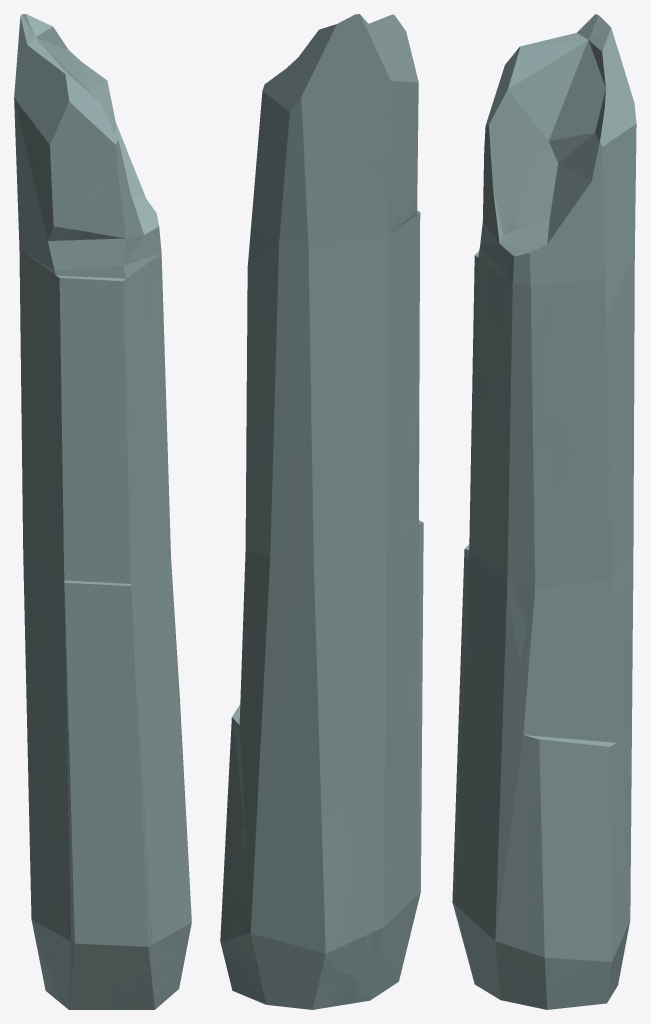
File: BrokenCrystal.fbx
The picture shows the model from 3 angles, left to right: view 1: azimuth 30°, elevation 25°; view 2: azimuth 150°, elevation 25°; view 3: azimuth 270°, elevation 25°; orthographic projection. The views are drawn at different scales.
Parts seen in each view (by area): view 1: Cristal_Long_Broken, Cristal_Long_Broken_cell.029, Cristal_Long_Broken_cell.030, Cristal_Long_Broken_cell.019, Cristal_Long_Broken_cell.005, Cristal_Long_Broken_cell.023, Cristal_Long_Broken_cell.031, Cristal_Long_Broken_cell.025, Cristal_Long_Broken_cell.046, Cristal_Long_Broken_cell.039, Cristal_Long_Broken_cell.053, Cristal_Long_Broken_cell.011 (+11 smaller); view 2: Cristal_Long_Broken, Cristal_Long_Broken_cell.002, Cristal_Long_Broken_cell.007, Cristal_Long_Broken_cell.032, Cristal_Long_Broken_cell.021, Cristal_Long_Broken_cell.005, Cristal_Long_Broken_cell.024, Cristal_Long_Broken_cell.033, Cristal_Long_Broken_cell.045, Cristal_Long_Broken_cell, Cristal_Long_Broken_cell.036, Cristal_Long_Broken_cell.017 (+16 smaller); view 3: Cristal_Long_Broken, Cristal_Long_Broken_cell.036, Cristal_Long_Broken_cell.028, Cristal_Long_Broken_cell.018, Cristal_Long_Broken_cell.017, Cristal_Long_Broken_cell.046, Cristal_Long_Broken_cell.031, Cristal_Long_Broken_cell.007, Cristal_Long_Broken_cell.030, Cristal_Long_Broken_cell.041, Cristal_Long_Broken_cell.009, Cristal_Long_Broken_cell.021 (+16 smaller).
Boxes of the visible parts, <box> form: Cristal_Long_Broken: <box>14,14,191,1009</box>; Cristal_Long_Broken_cell.029: <box>53,588,151,729</box>; Cristal_Long_Broken_cell.030: <box>51,703,185,822</box>; Cristal_Long_Broken_cell.019: <box>25,477,100,704</box>; Cristal_Long_Broken_cell.005: <box>28,774,75,958</box>; Cristal_Long_Broken_cell.023: <box>24,428,61,652</box>; Cristal_Long_Broken_cell.031: <box>145,553,175,659</box>; Cristal_Long_Broken_cell.025: <box>98,411,163,599</box>; Cristal_Long_Broken_cell.046: <box>148,254,165,398</box>; Cristal_Long_Broken_cell.039: <box>21,271,79,432</box>; Cristal_Long_Broken_cell.053: <box>79,305,155,432</box>; Cristal_Long_Broken_cell.011: <box>120,962,173,1009</box>; Cristal_Long_Broken: <box>220,14,423,1009</box>; Cristal_Long_Broken_cell.002: <box>286,811,368,973</box>; Cristal_Long_Broken_cell.007: <box>223,822,295,968</box>; Cristal_Long_Broken_cell.032: <box>313,158,401,310</box>; Cristal_Long_Broken_cell.021: <box>238,626,397,812</box>; Cristal_Long_Broken_cell.005: <box>337,748,419,967</box>; Cristal_Long_Broken_cell.024: <box>256,416,311,557</box>; Cristal_Long_Broken_cell.033: <box>278,189,349,348</box>; Cristal_Long_Broken_cell.045: <box>346,61,404,158</box>; Cristal_Long_Broken_cell: <box>278,960,362,1007</box>; Cristal_Long_Broken_cell.036: <box>247,245,345,382</box>; Cristal_Long_Broken_cell.017: <box>232,706,286,830</box>; Cristal_Long_Broken: <box>452,14,636,1009</box>; Cristal_Long_Broken_cell.036: <box>500,288,634,451</box>; Cristal_Long_Broken_cell.028: <box>553,443,632,625</box>; Cristal_Long_Broken_cell.018: <box>507,832,593,975</box>; Cristal_Long_Broken_cell.017: <box>562,738,631,851</box>; Cristal_Long_Broken_cell.046: <box>496,269,553,411</box>; Cristal_Long_Broken_cell.031: <box>480,520,527,658</box>; Cristal_Long_Broken_cell.007: <box>592,821,631,953</box>; Cristal_Long_Broken_cell.030: <box>456,735,530,831</box>; Cristal_Long_Broken_cell.041: <box>569,222,609,296</box>; Cristal_Long_Broken_cell.009: <box>558,895,620,992</box>; Cristal_Long_Broken_cell.021: <box>582,640,632,779</box>.
Size of the model in its own units: 2149 by 12614 by 2248.
